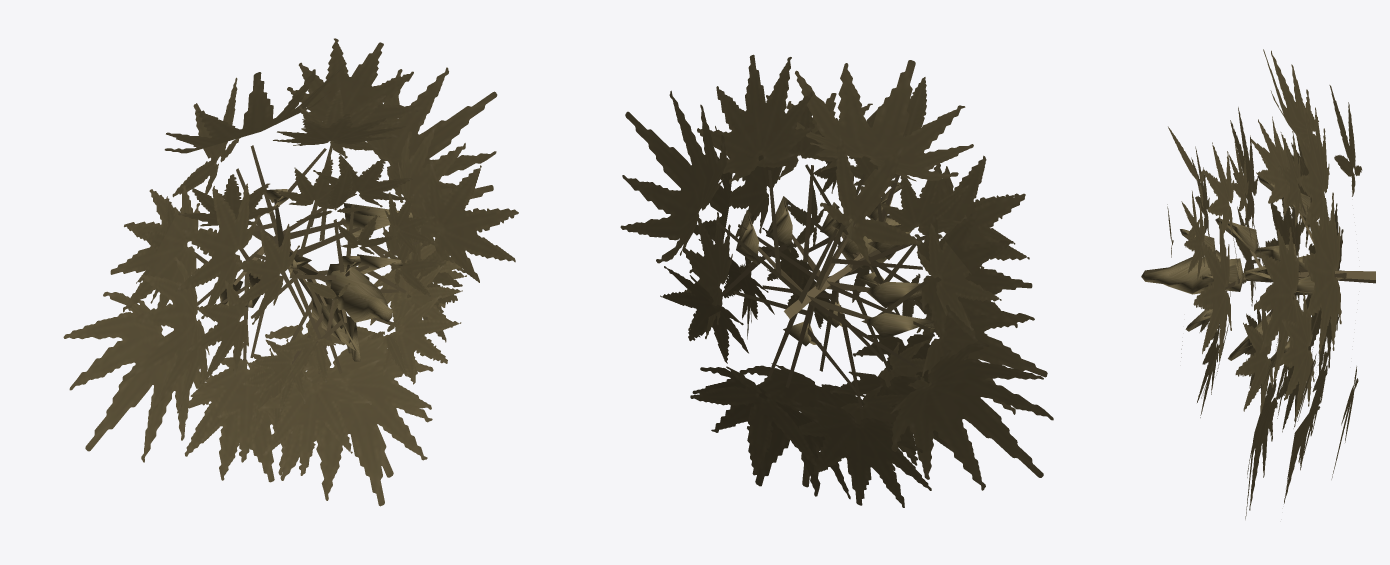
Rendered from p_haze_flowering_c4_cards.obj.
The picture shows the model from 3 angles, left to right: view 1: azimuth 30°, elevation 25°; view 2: azimuth 150°, elevation 25°; view 3: azimuth 270°, elevation 25°; orthographic projection. The views are drawn at different scales.
Bounding box in the file's own units: 1.63 × 1.5 × 0.675.
1 material, 1 textured.
